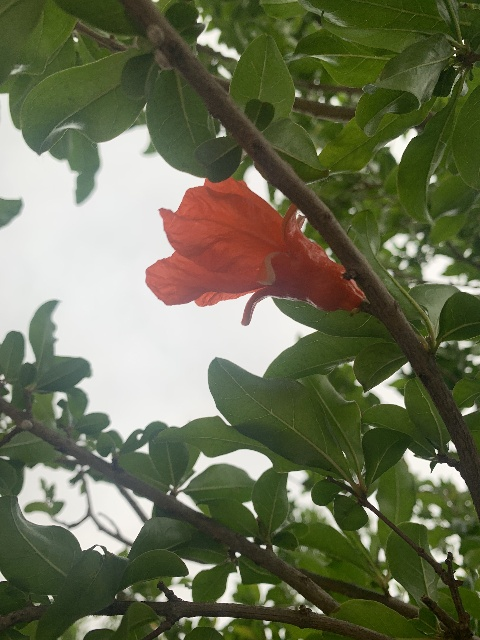flower: (144, 175, 365, 327)
